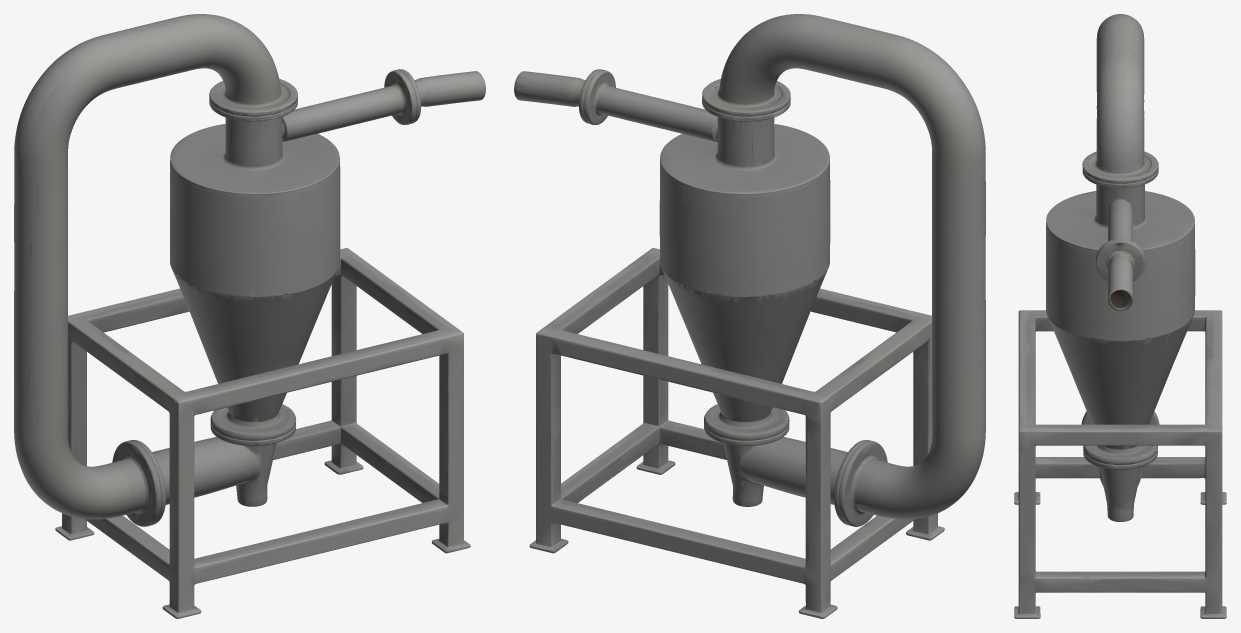
Rendered from tubo.glb.
The picture shows the model from 3 angles, left to right: view 1: azimuth 30°, elevation 25°; view 2: azimuth 150°, elevation 25°; view 3: azimuth 270°, elevation 25°; orthographic projection. The views are drawn at different scales.
Visible parts, largest first — view 1: material; view 2: material; view 3: material.
Part boxes in pixels (<box>): material: <box>14,14,485,618</box>; material: <box>514,14,985,618</box>; material: <box>1014,14,1226,618</box>.
Bounding box in the file's own units: 0.8639 × 0.9652 × 0.3958.
1 material, 1 textured.
